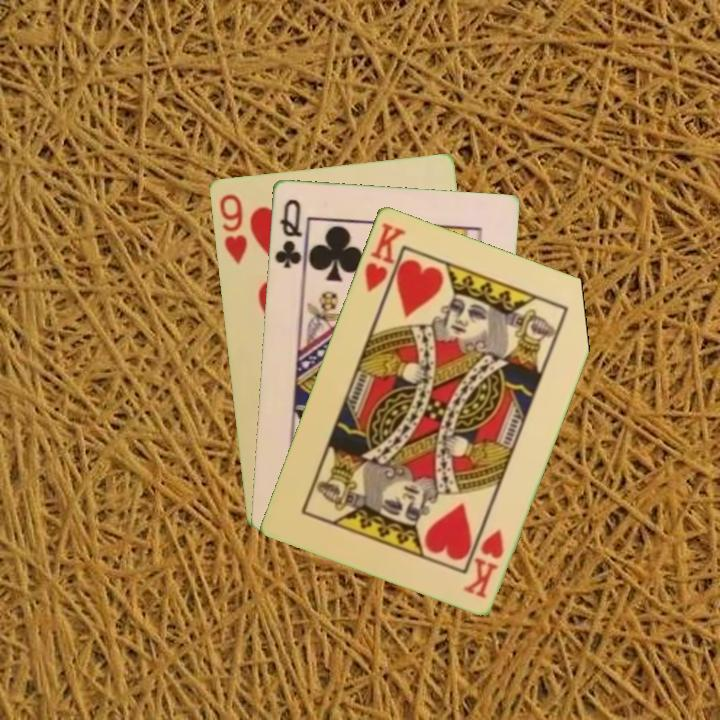9h: (215, 190, 250, 267)
Kh: (360, 218, 408, 304), (459, 525, 507, 601)
Qc: (271, 195, 307, 274)
